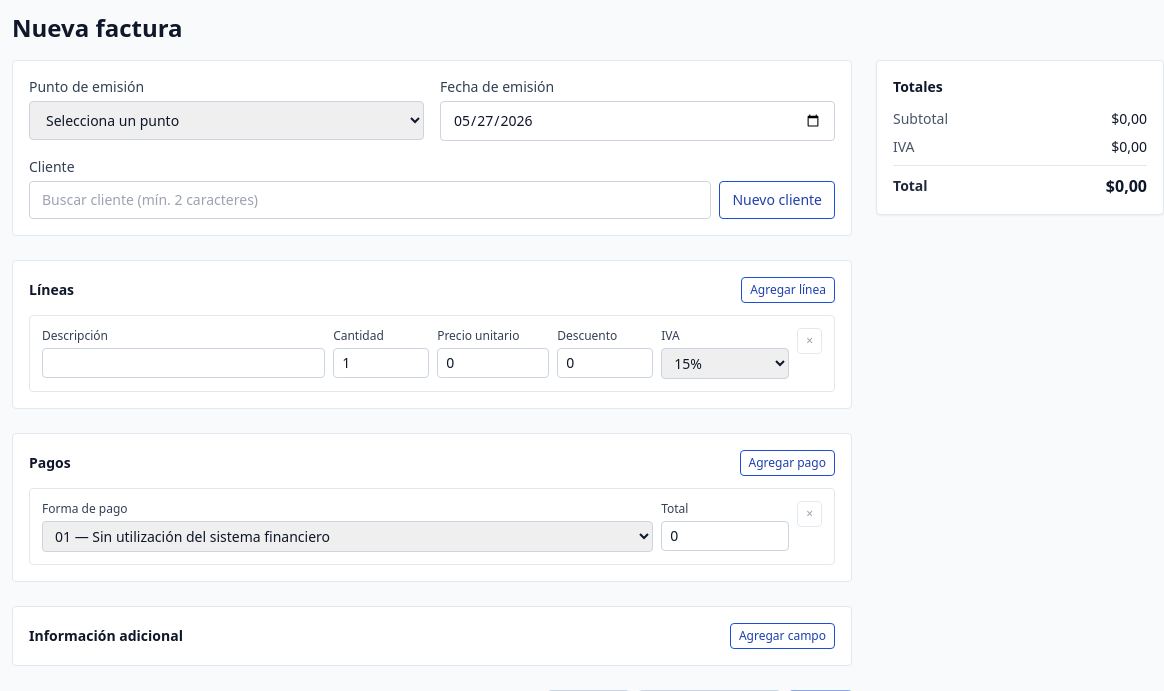
Scenario: <InvoiceForm /> rendering › 'Agregar línea' adds a second LineRow
The width and height of the screenshot is (1164, 691).
Check: the element with test id "line-row-0" is shown, box [29, 315, 835, 392]
Click the button with test id "add-line". click: coordinates (788, 290)
box: [741, 277, 835, 303]
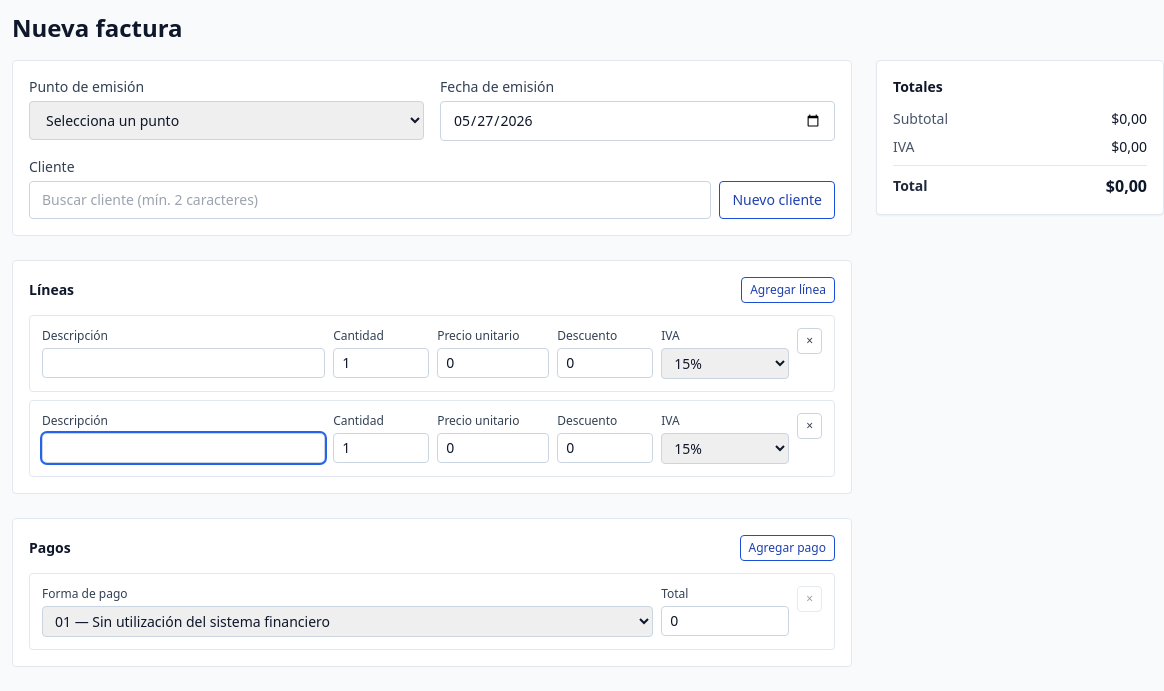
Check: the element with test id "line-row-1" is shown, box [29, 400, 835, 477]
